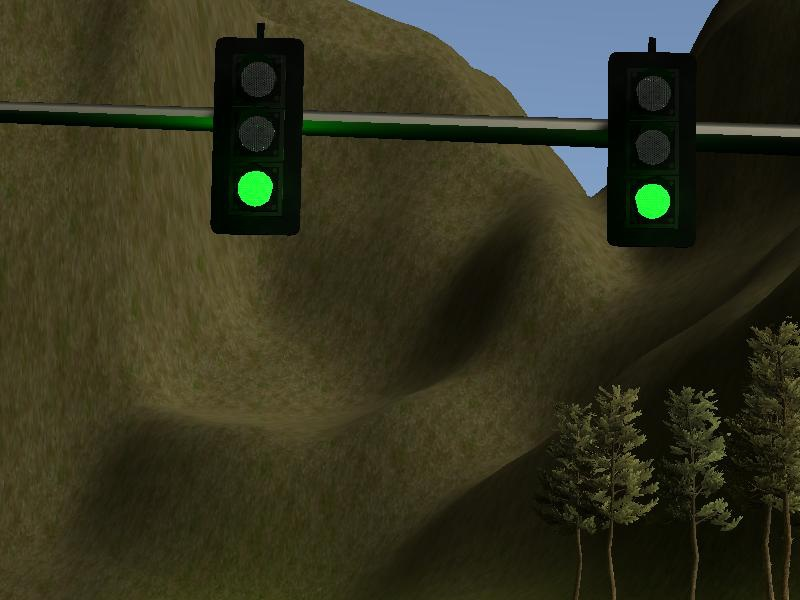Green: (209, 37, 305, 237), (606, 51, 702, 251)
